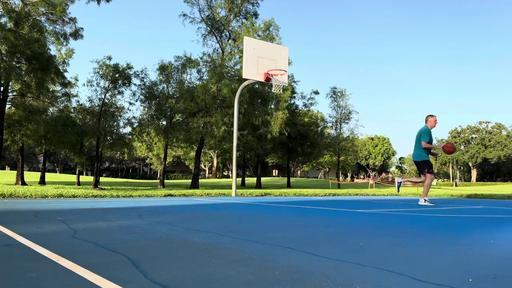ball: (442, 142, 456, 154)
human: (395, 114, 443, 205)
rim: (267, 68, 287, 92)
